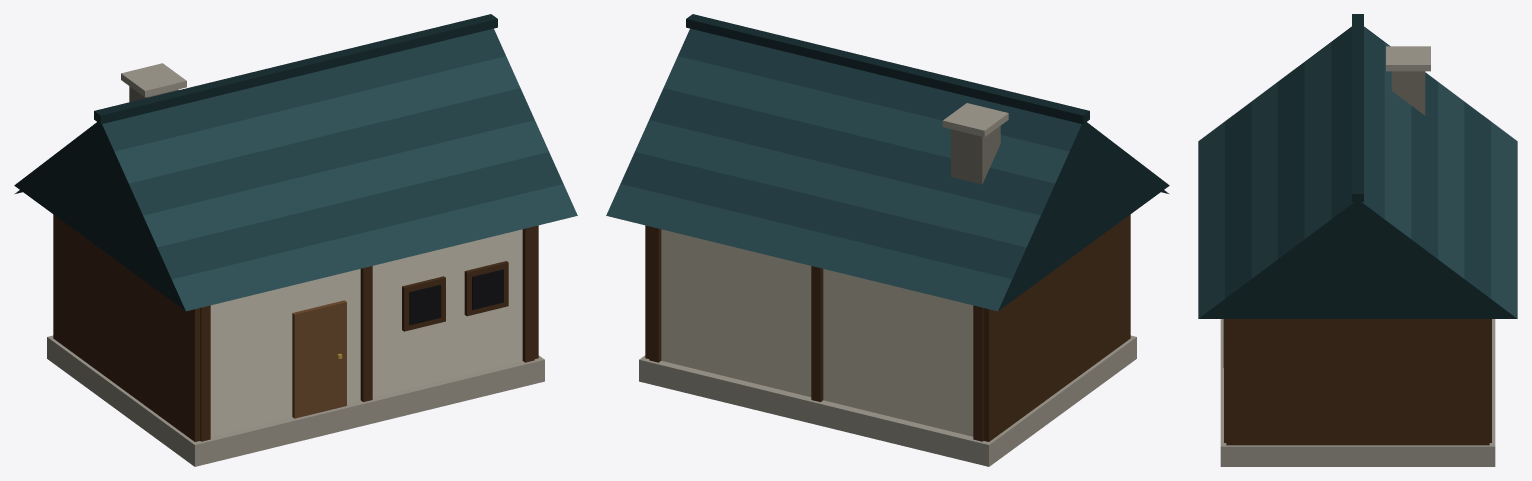
Rendered from farmhouse.glb.
3 views of the same model, side by side, from view 1: azimuth 30°, elevation 25°; view 2: azimuth 150°, elevation 25°; view 3: azimuth 270°, elevation 25° (orthographic). The views are drawn at different scales.
Parts seen in each view (by area): view 1: farmhouse; view 2: farmhouse; view 3: farmhouse.
Part boxes in pixels (x1,y1,x2,y2): farmhouse: (14, 14, 577, 466); farmhouse: (606, 14, 1169, 466); farmhouse: (1198, 14, 1517, 466).
Bounding box in the file's own units: 7.6 × 5.58 × 5.7.
